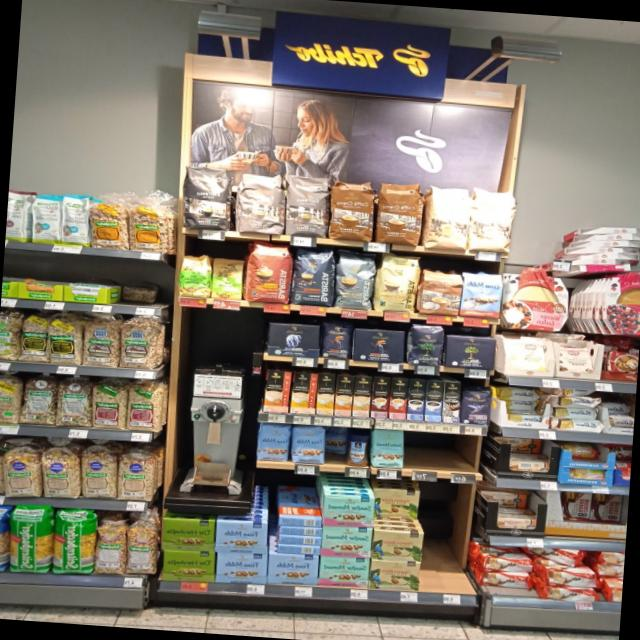AB Gemahlen: (268, 321, 320, 358)
Athiopien Bohne: (176, 253, 212, 297)
Athiopien Gemahlen: (210, 258, 243, 300)
BM Bohne: (407, 322, 445, 367)
BM Gemahlen: (443, 334, 497, 371)
Barista CB: (371, 252, 422, 312)
Barista CC: (334, 250, 376, 310)
Barista Espresso: (289, 244, 335, 306)
Barista Kolumbien: (244, 241, 292, 304)
C Fino Bohne: (459, 385, 494, 426)
CC Mild: (466, 186, 518, 254), (422, 184, 472, 250)
CC Vollmundig: (417, 268, 463, 316)
CC Vollmundig 36 Pads: (374, 178, 423, 245), (328, 178, 376, 242)
Colombia BB Gemahlen: (371, 528, 425, 562), (369, 558, 422, 592)
Espresso Aromatisch: (233, 170, 287, 234), (283, 172, 331, 238)
Espresso Kraftig: (180, 162, 232, 229)
FM 36 Pads: (459, 270, 503, 318)
FM Bohne: (289, 424, 327, 464), (254, 422, 292, 462)
FM Gemahlen: (215, 518, 268, 554), (266, 551, 318, 586), (216, 548, 266, 584)
FM Instant: (344, 432, 370, 468)
Herzhatfe Mundig: (160, 516, 214, 554), (160, 548, 214, 584)
LG Bohne: (319, 320, 353, 360)
LG Gemahlen: (351, 327, 405, 363)
SM Bohne: (368, 427, 406, 469)
SM Gemahlen: (322, 492, 376, 528), (318, 554, 370, 589), (320, 524, 372, 558)
Simo CCMild: (290, 371, 318, 415)
Simo CCMild bigpack: (316, 372, 335, 414)
Simo CCVollmundig: (262, 370, 292, 412)
Simo CCVollmundig bigpack: (334, 374, 354, 417)
Simo Decaff: (352, 374, 372, 418)
Simo Es Brazil: (388, 376, 408, 419)
Simo Es Caramel: (370, 376, 390, 419)
Simo Es Elegant: (441, 381, 461, 424)
Simo Es Kraft: (406, 378, 426, 421)
Simo Es Vanilla: (424, 378, 443, 422)
